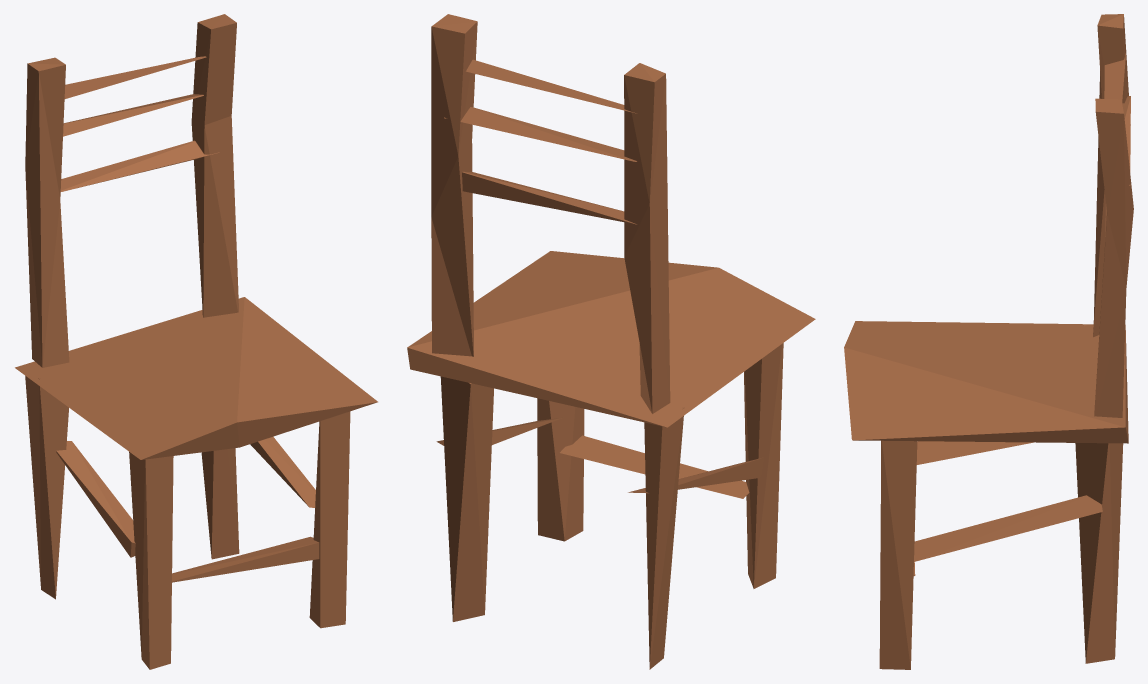
Rendered from Chair00.fbx.
3 renders of one model, left to right at view 1: azimuth 30°, elevation 25°; view 2: azimuth 150°, elevation 25°; view 3: azimuth 270°, elevation 25°, orthographic. The views are drawn at different scales.
Visible parts, largest first — view 1: Chair00; view 2: Chair00; view 3: Chair00.
Boxes of the visible parts, <box> form: Chair00: <box>15,14,377,669</box>; Chair00: <box>407,14,815,669</box>; Chair00: <box>844,14,1133,669</box>.
Size of the model in its own units: 32.38 by 69.17 by 32.76.
